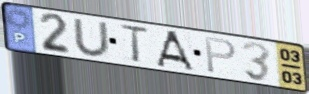2: (38, 12, 72, 57)
3: (241, 41, 276, 83)
A: (154, 29, 197, 74)
P: (203, 35, 238, 75)
T: (117, 23, 151, 65)
U: (71, 17, 112, 59)
